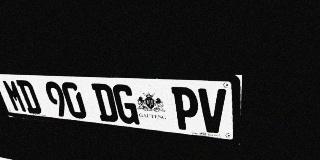0: (60, 82, 88, 119)
9: (43, 81, 71, 117)
D: (91, 83, 119, 123), (15, 80, 43, 114)
G: (111, 84, 140, 125)
M: (1, 79, 28, 113)
P: (171, 87, 199, 131)
V: (198, 88, 226, 134)
